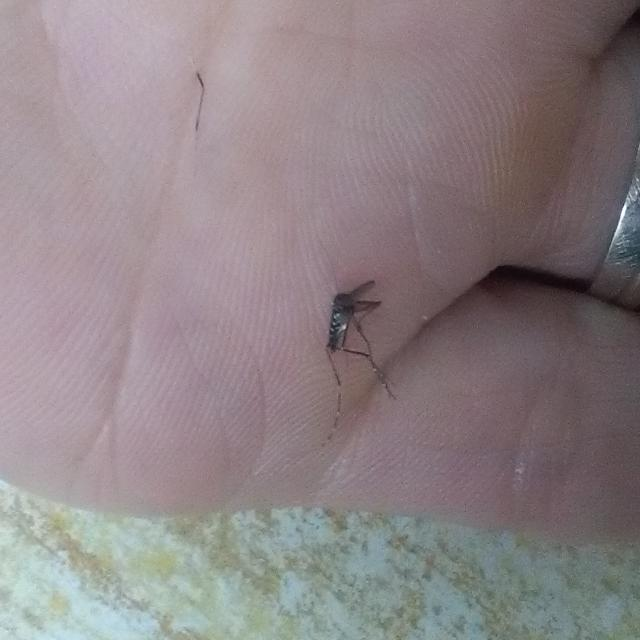albopictus: (317, 273, 404, 417)
